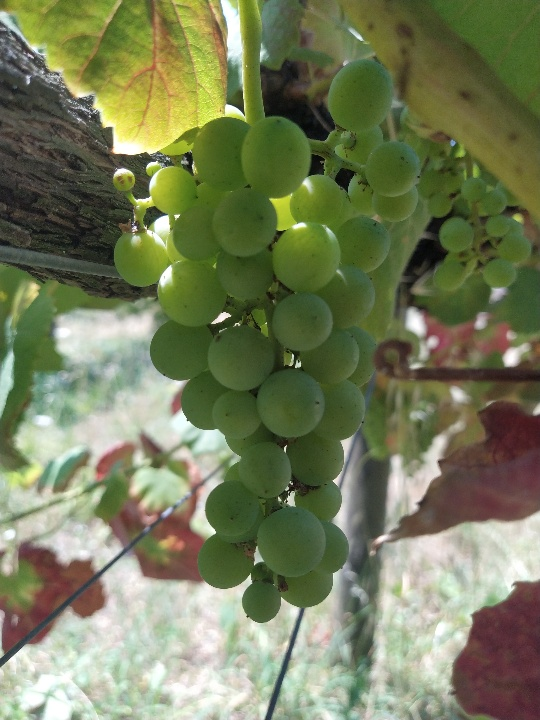grape: (112, 57, 431, 626)
